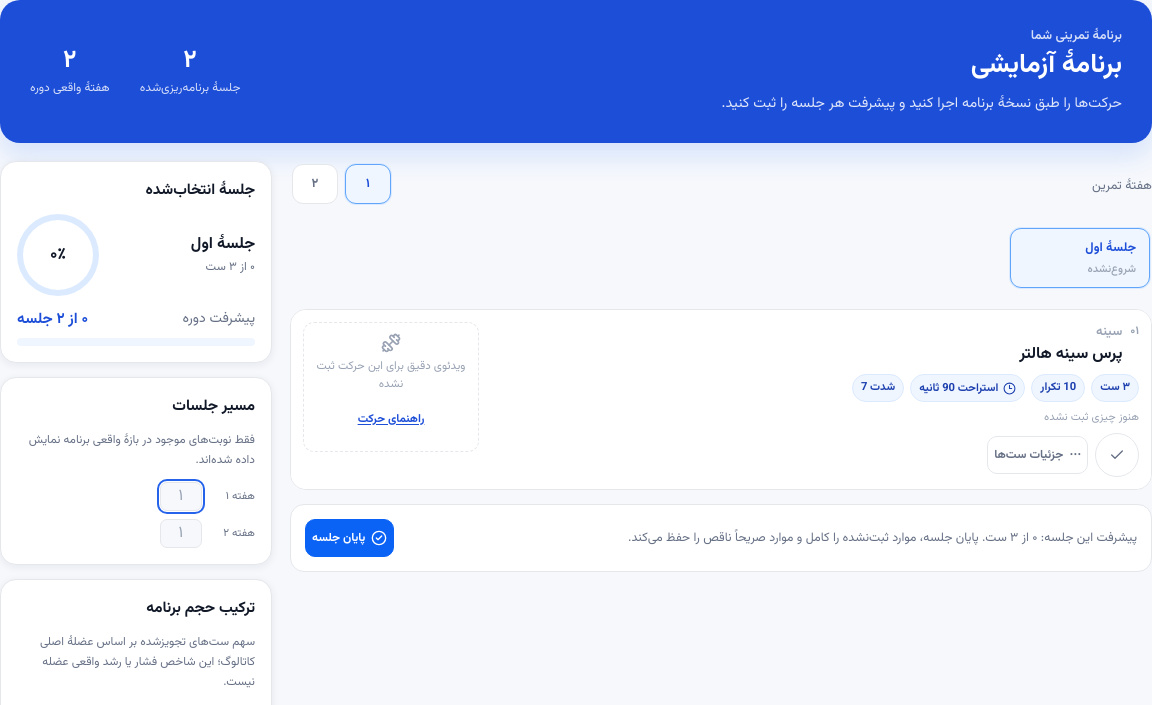
Scenario: InteractiveWorkout › opens all three coach lesson sections without a video and keeps sections separate
The image size is (1152, 705).
Click the button with aria-label "آموزش حرکت پرس سینه هالتر". click: click(391, 419)
box: [352,397,430,441]
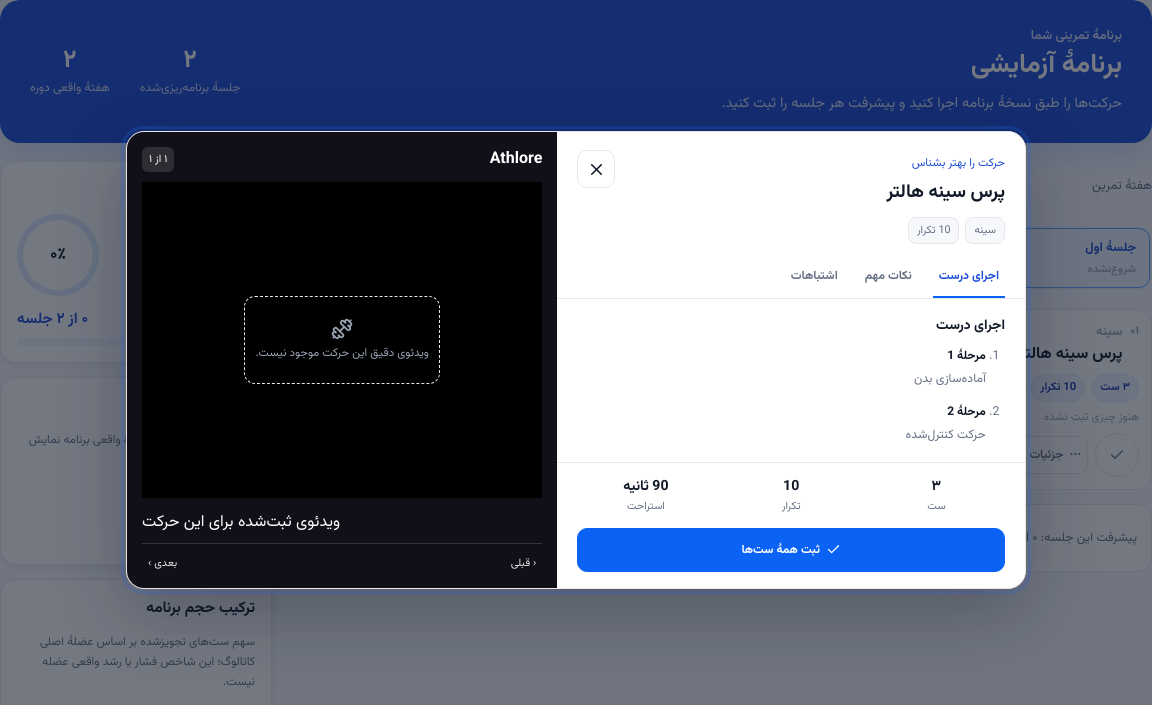
Expected: the text "تنفس منظم" is not shown
Result: the list item "آماده‌سازی بدن" is shown at [914,369,986,389]
Click the tab "نکات مهم". click: click(888, 277)
box: [859,256,918,298]
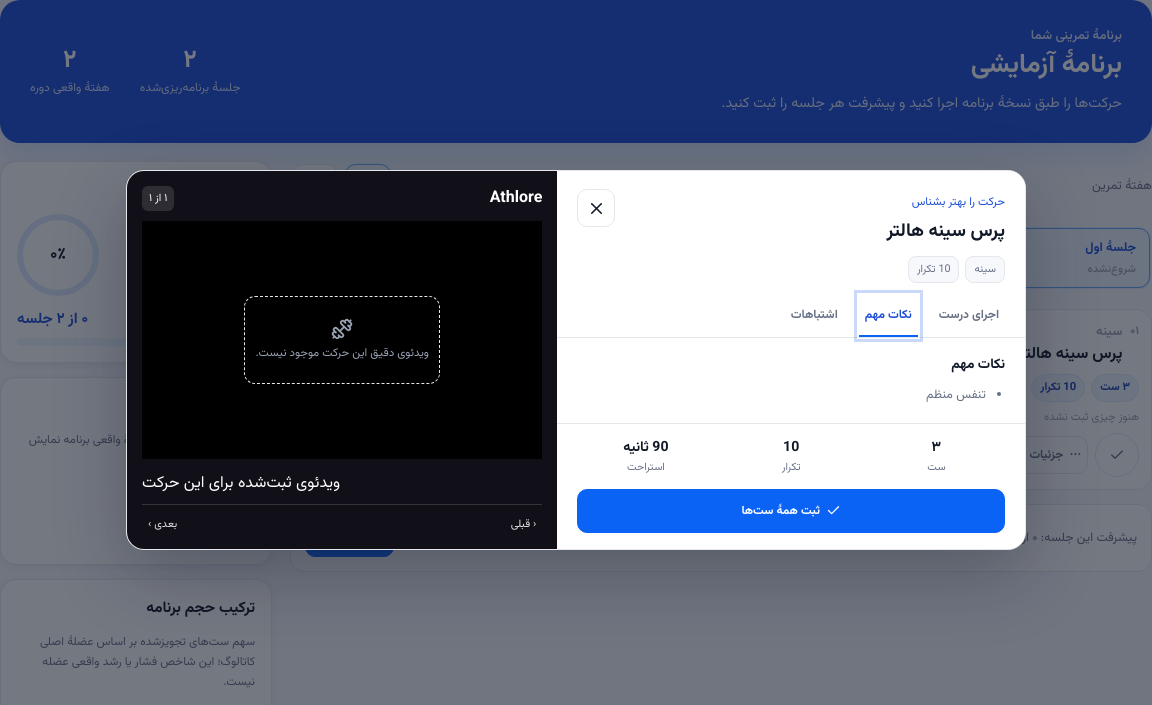
Result: the list item "تنفس منظم" is shown at [926,385,986,405]
Result: the list item "آماده‌سازی بدن" is gone
Click the tab "اشتباهات". click: click(814, 316)
box: [785,295,844,337]
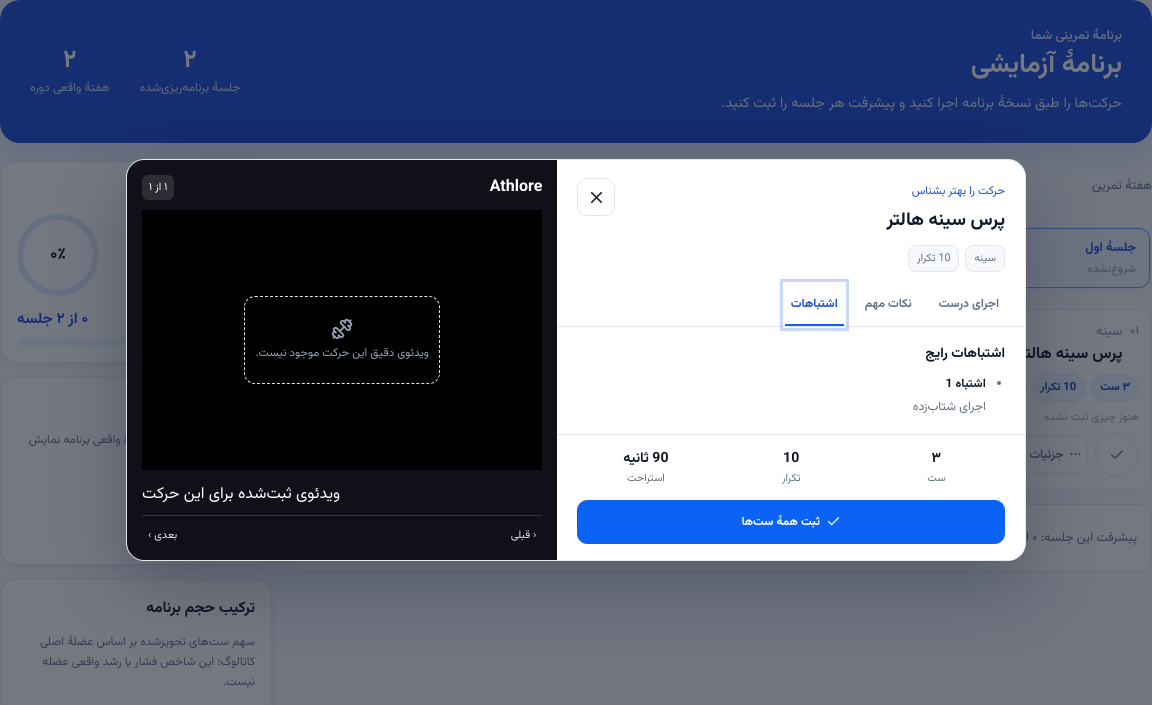
Result: the list item "اجرای شتاب‌زده" is shown at [913,397,986,417]
